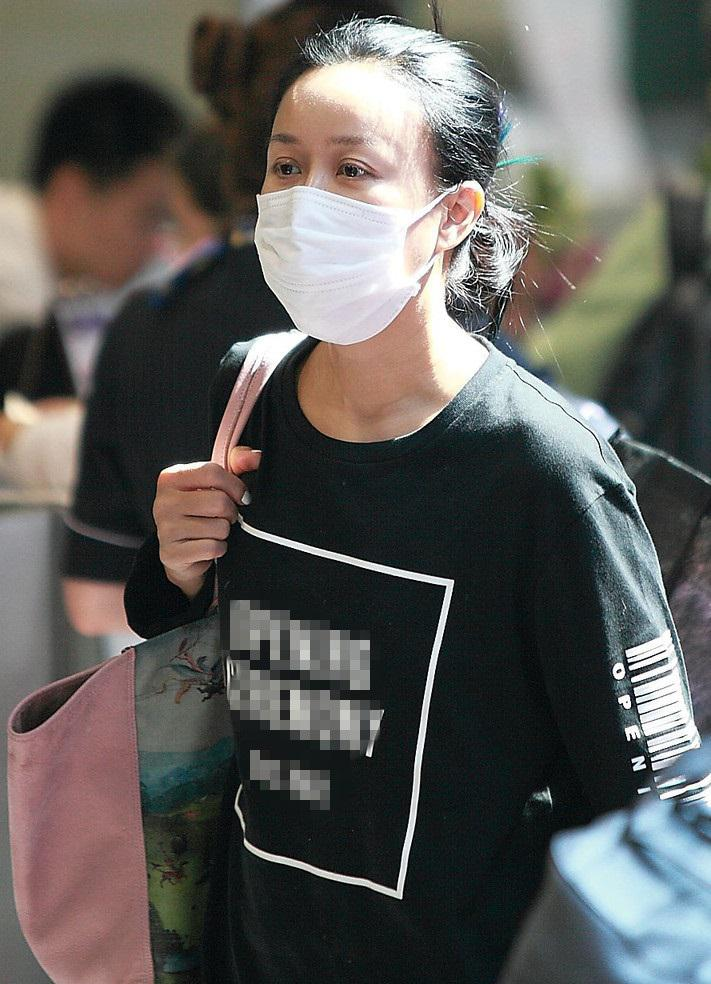OK: (248, 126, 452, 330)
